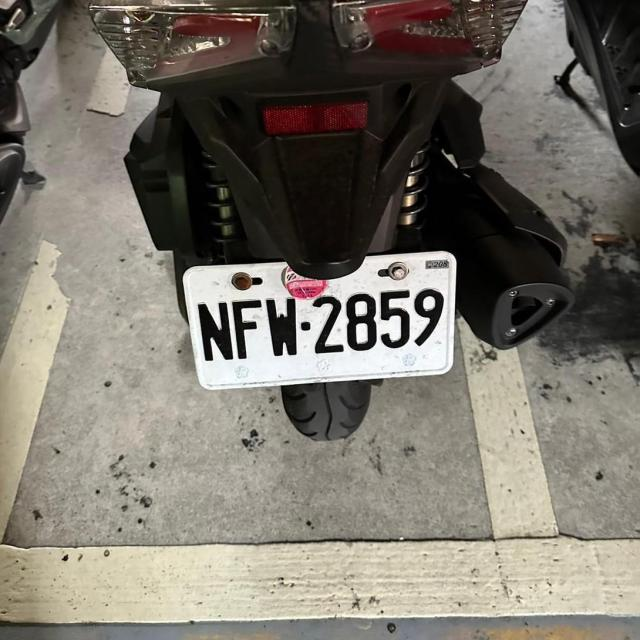W: (176, 248, 462, 394)
